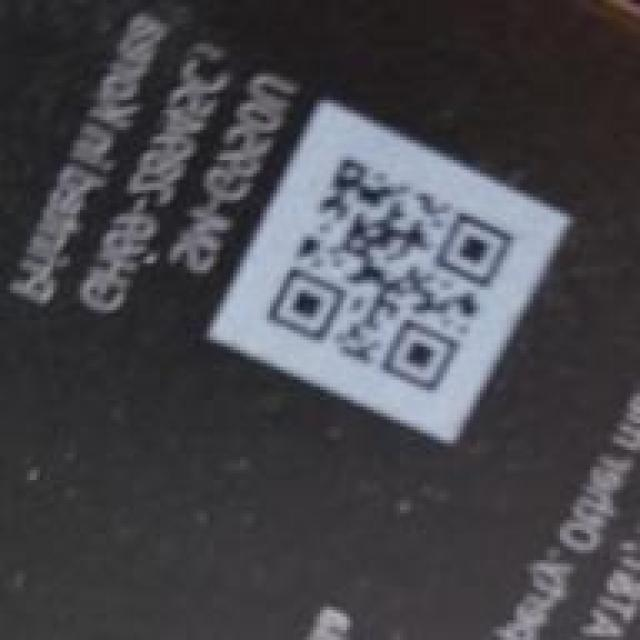QR_CODE: (247, 152, 540, 406)
